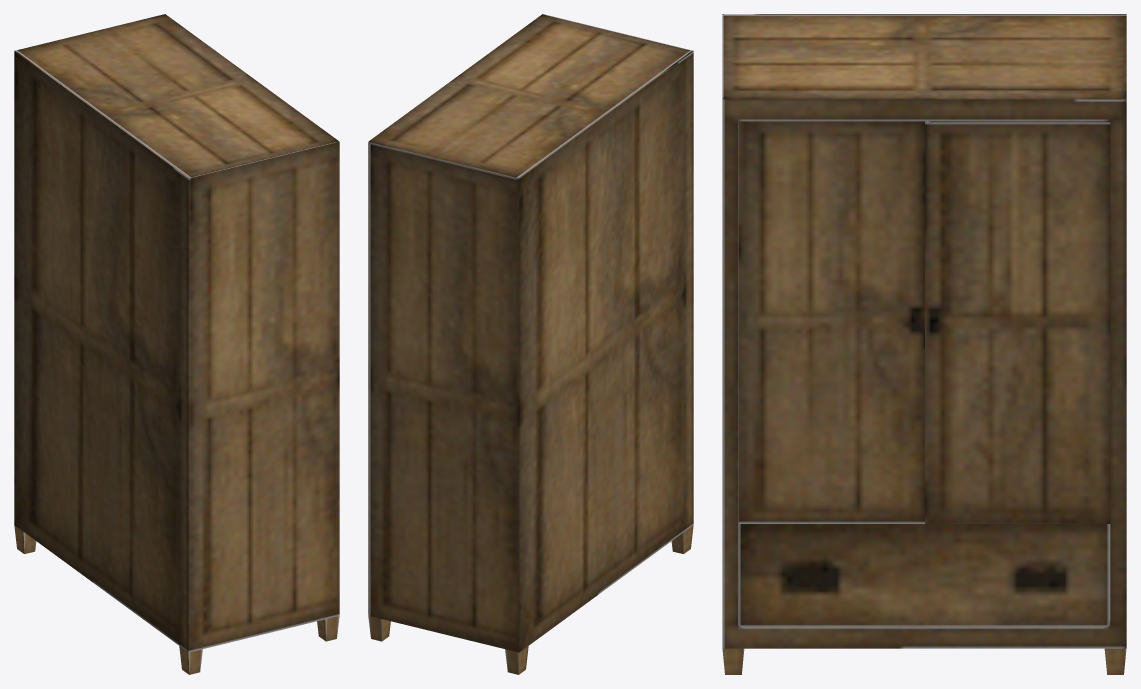
Rendered from Wooden Wardrobe-2.fbx.
The picture shows the model from 3 angles, left to right: view 1: azimuth 30°, elevation 25°; view 2: azimuth 150°, elevation 25°; view 3: azimuth 270°, elevation 25°; orthographic projection. The views are drawn at different scales.
Visible parts, largest first — view 1: Wooden Wardrobe-2; view 2: Wooden Wardrobe-2; view 3: Wooden Wardrobe-2.
Part boxes in pixels (box(x1,y1,x2,y2)): Wooden Wardrobe-2: box(14, 14, 339, 674); Wooden Wardrobe-2: box(368, 14, 693, 674); Wooden Wardrobe-2: box(722, 14, 1126, 674).
Size of the model in its own units: 100 by 315 by 200.
